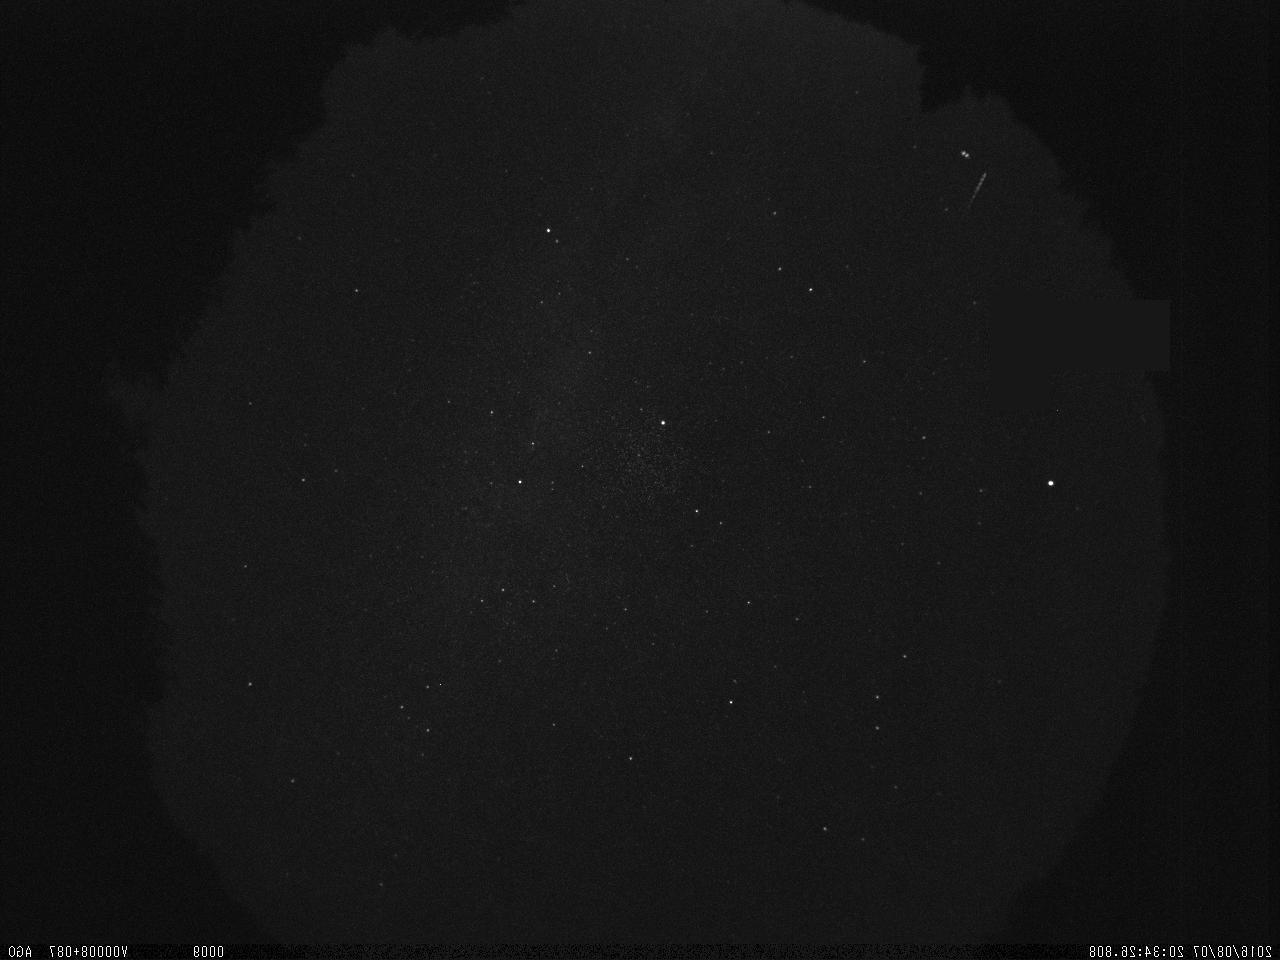meteor: (958, 166, 998, 222)
satelite: (956, 140, 973, 166)
